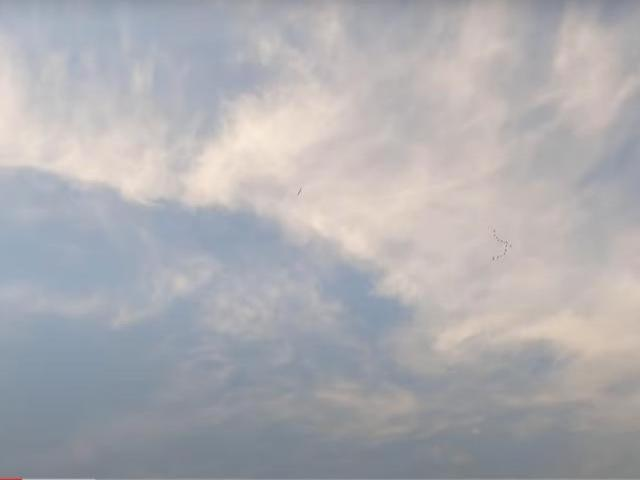iha: (298, 188, 302, 196)
